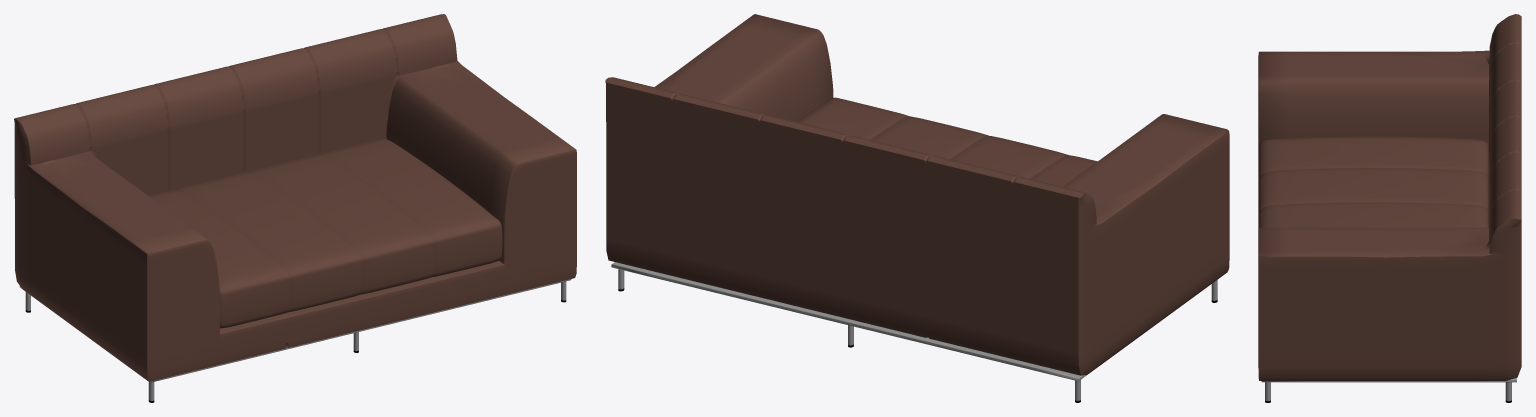
The model's file is IKEA-Kramfors_2_Seat_Sofa-3D.obj.
3 views of the same model, side by side, from view 1: azimuth 30°, elevation 25°; view 2: azimuth 150°, elevation 25°; view 3: azimuth 270°, elevation 25° (orthographic). The views are drawn at different scales.
Parts seen in each view (by area): view 1: Object02, Object01, Box01; view 2: Object02, Object01, Box01; view 3: Object02, Object01, Box01.
Part boxes in pixels (x1,y1,x2,y2): Object02: (14, 14, 576, 381); Object01: (147, 138, 502, 328); Box01: (19, 279, 571, 402); Object02: (605, 14, 1229, 375); Object01: (797, 97, 1097, 186); Box01: (611, 262, 1217, 402); Object02: (1258, 14, 1521, 380); Object01: (1258, 136, 1489, 227); Box01: (1261, 378, 1516, 402).
Bounding box in the file's own units: 1789 × 764 × 970.
